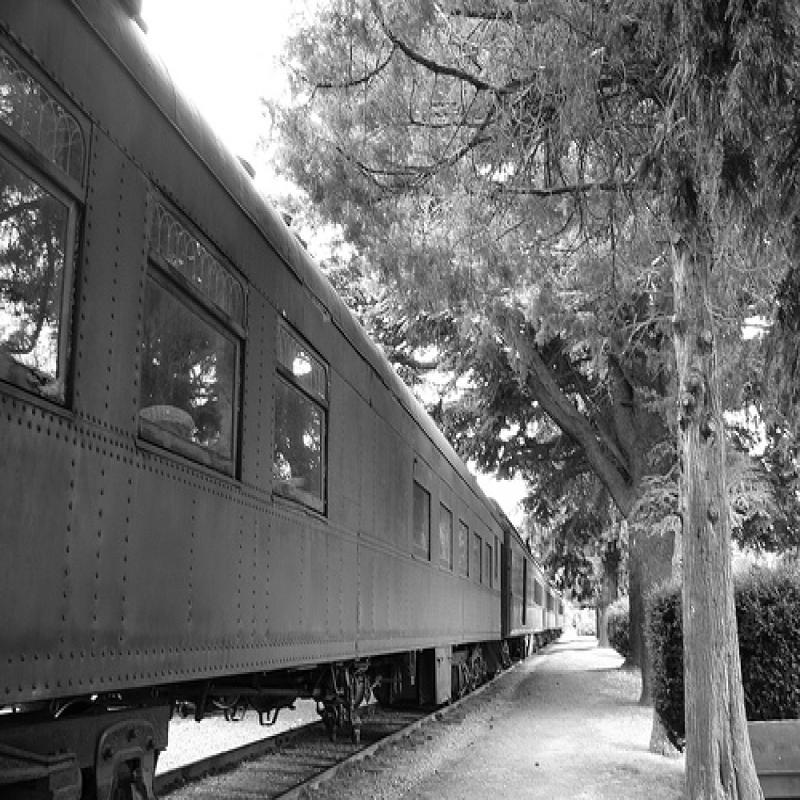train: (1, 1, 567, 799)
